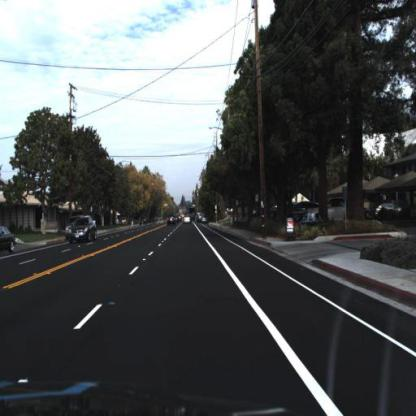car: (304, 195, 350, 225), (66, 214, 98, 245), (1, 226, 16, 257)
